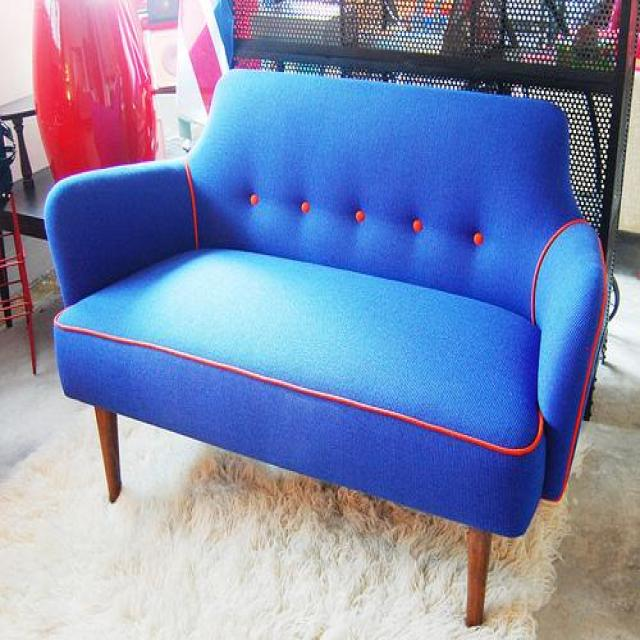sofa: (41, 63, 608, 631)
